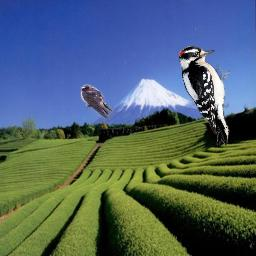Swallow: (80, 84, 114, 120)
Woodpecker: (179, 46, 230, 146)
